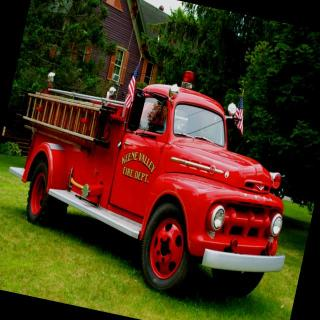Fire_truck: (0, 36, 319, 317)
